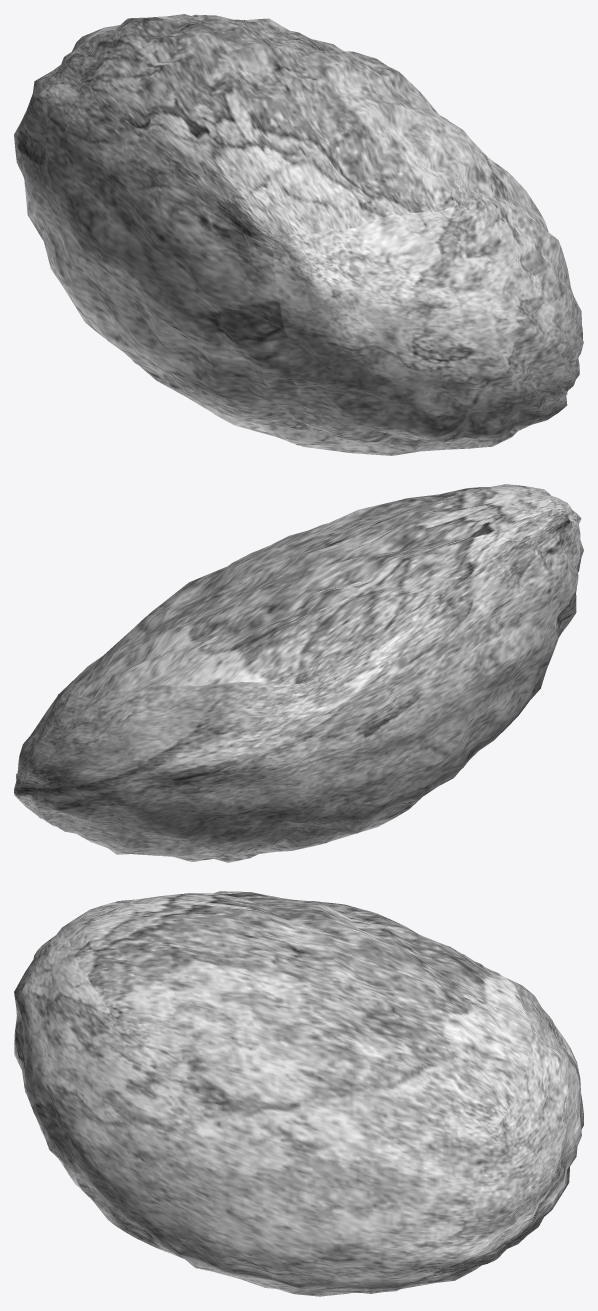
The model's file is rock_i(2) (1).fbx.
The picture shows the model from 3 angles, top to bottom: view 1: azimuth 30°, elevation 25°; view 2: azimuth 150°, elevation 25°; view 3: azimuth 270°, elevation 25°; orthographic projection. The views are drawn at different scales.
Visible parts, largest first — view 1: Cube; view 2: Cube; view 3: Cube.
Part boxes in pixels (x1,y1,x2,y2): Cube: (14,14,583,455); Cube: (14,484,583,862); Cube: (14,891,583,1296).
Bounding box in the file's own units: 98.4 × 73.67 × 133.
